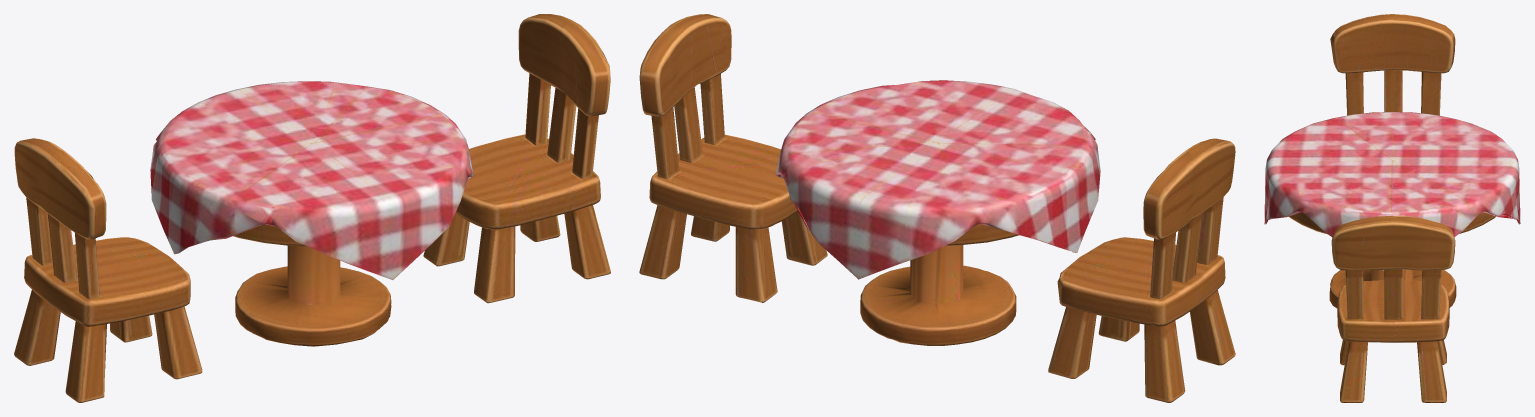
File: item-table.glb
3 views of the same model, side by side, from view 1: azimuth 30°, elevation 25°; view 2: azimuth 150°, elevation 25°; view 3: azimuth 270°, elevation 25° (orthographic). The views are drawn at different scales.
Size of the model in its own units: 0.9556 by 0.3867 by 0.4917.
1 material, 1 textured.
